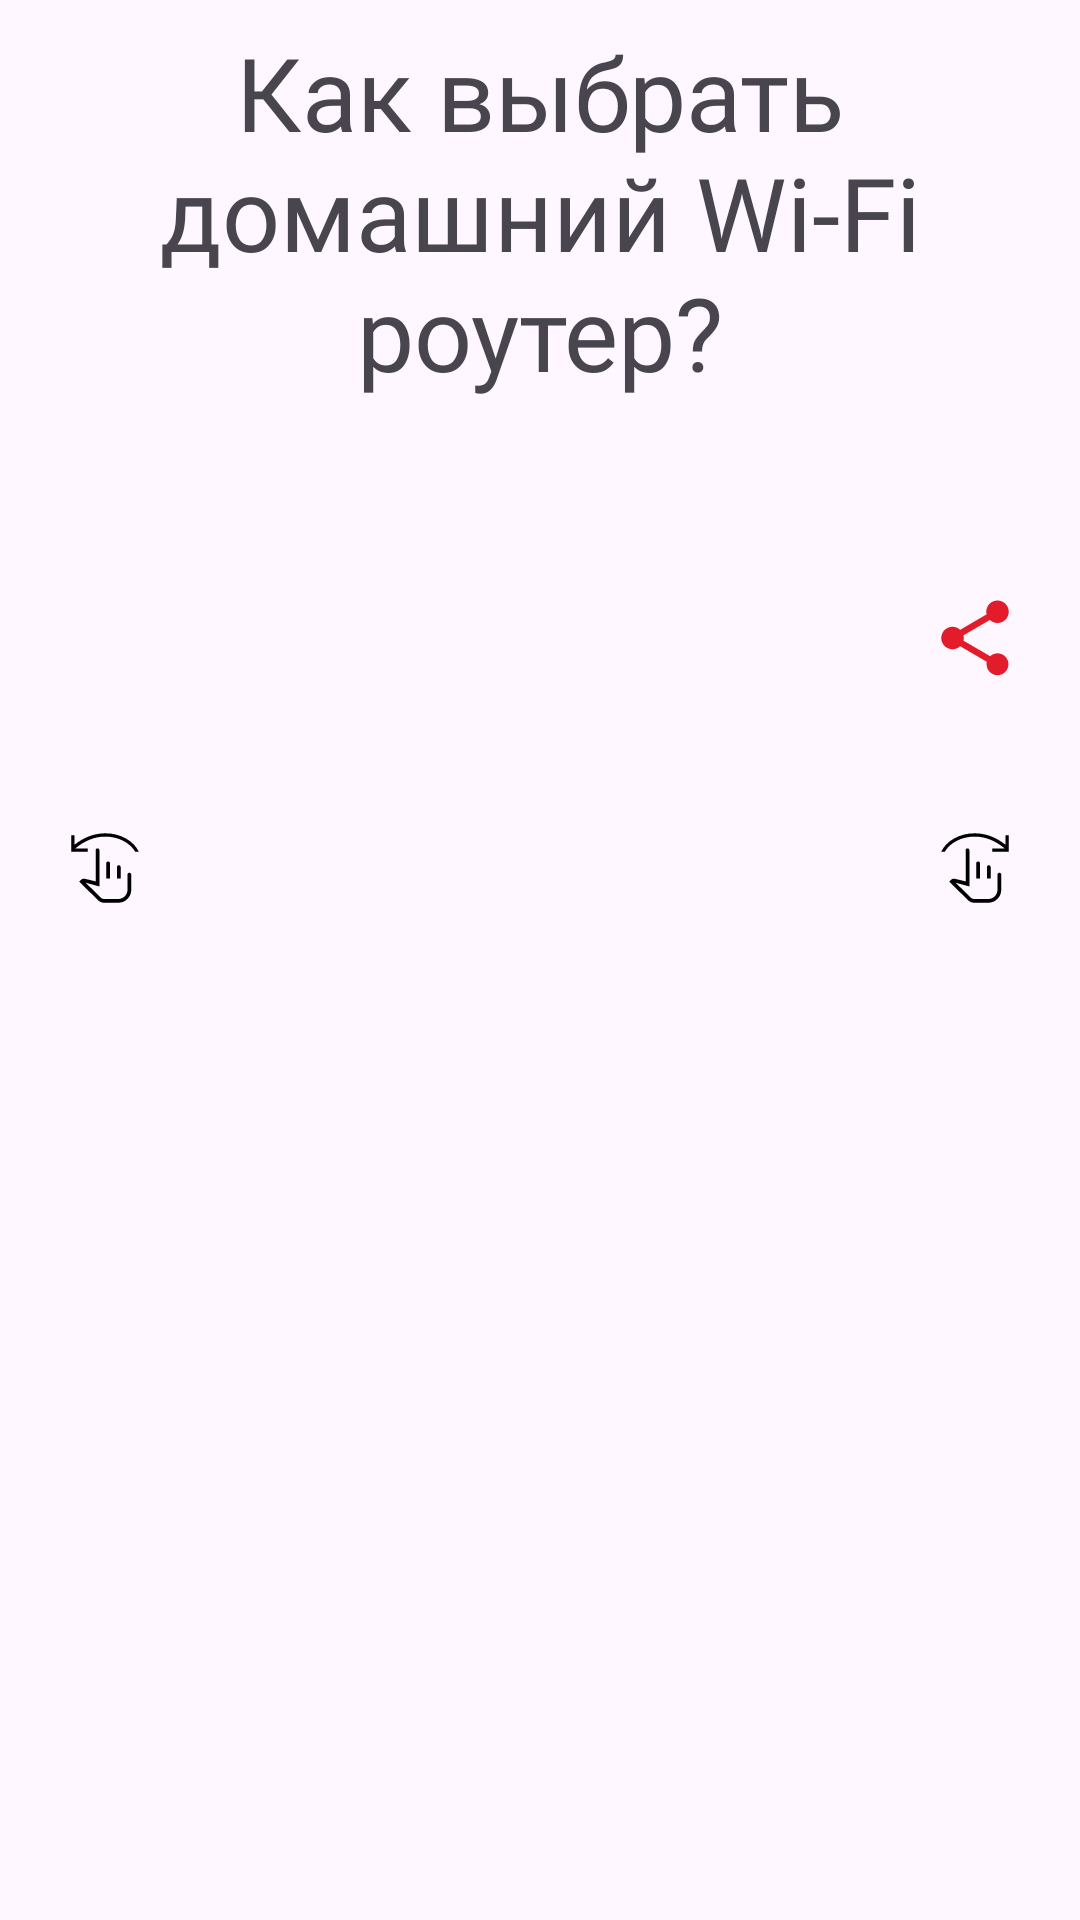

Icon click points for this 1080 × 1920 phone screenshot, format (x,y):
share: (975,638)
swipe left: (105,868)
swipe right: (975,868)
